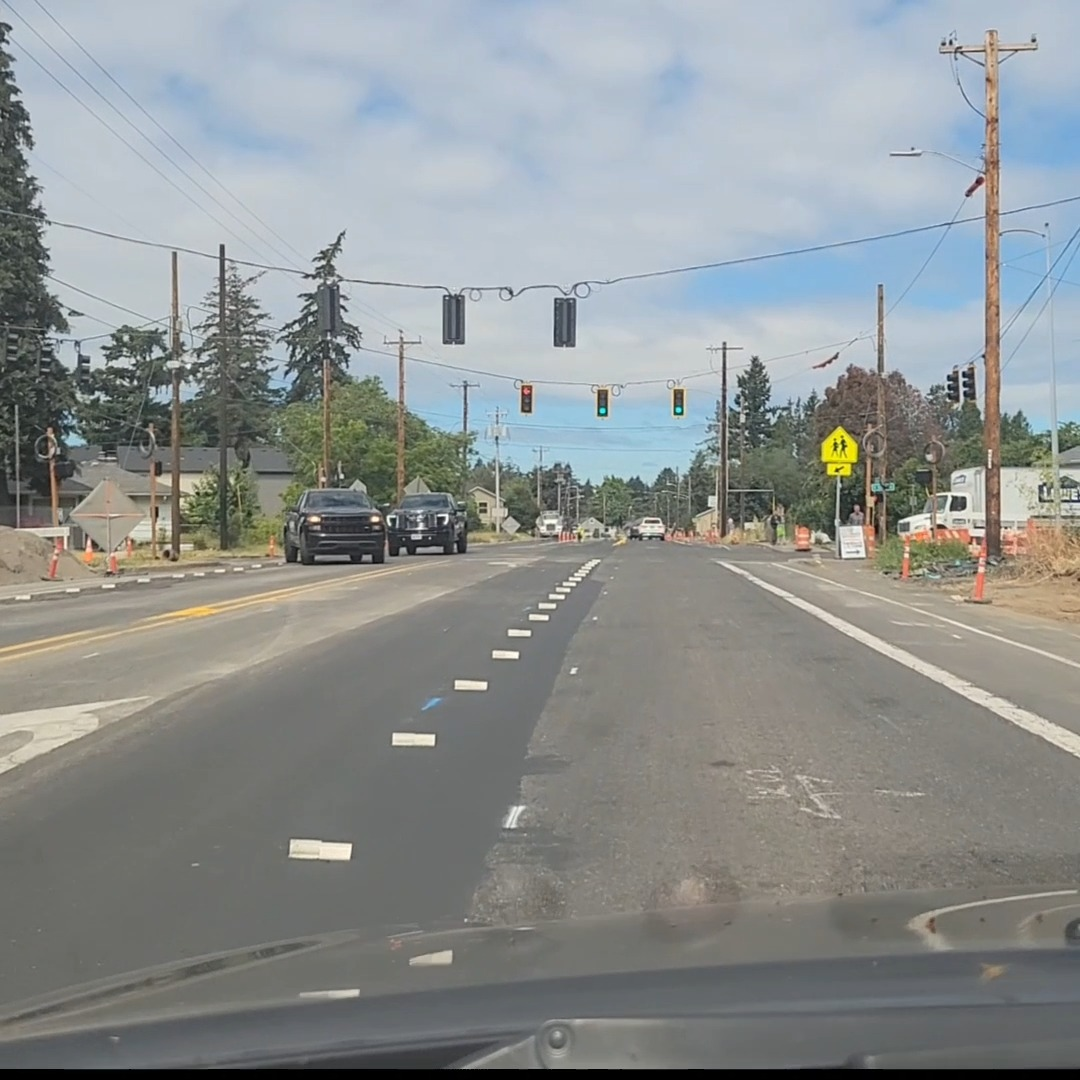car: (281, 489, 388, 565), (383, 492, 468, 556), (633, 516, 666, 540)
crosswalk-sign: (820, 425, 857, 469)
delineator: (968, 546, 988, 602), (48, 539, 61, 579), (901, 536, 910, 579), (82, 537, 96, 563), (265, 533, 277, 556), (107, 551, 118, 574), (125, 536, 133, 557)
